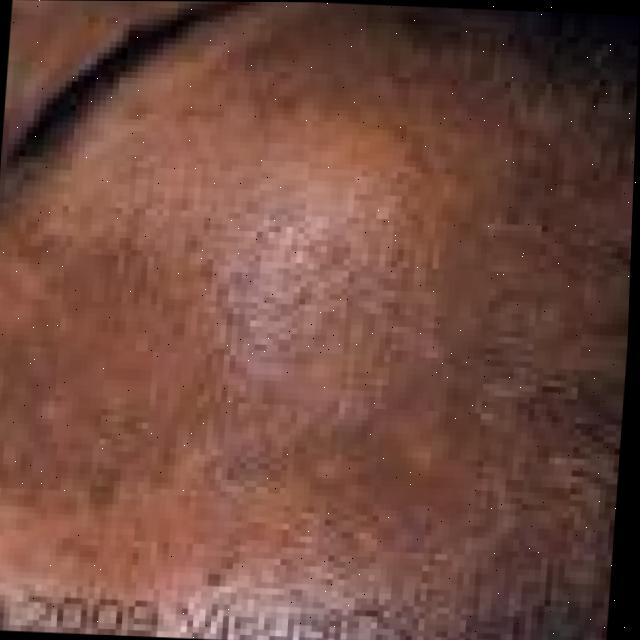Melasma: (0, 80, 474, 610)
